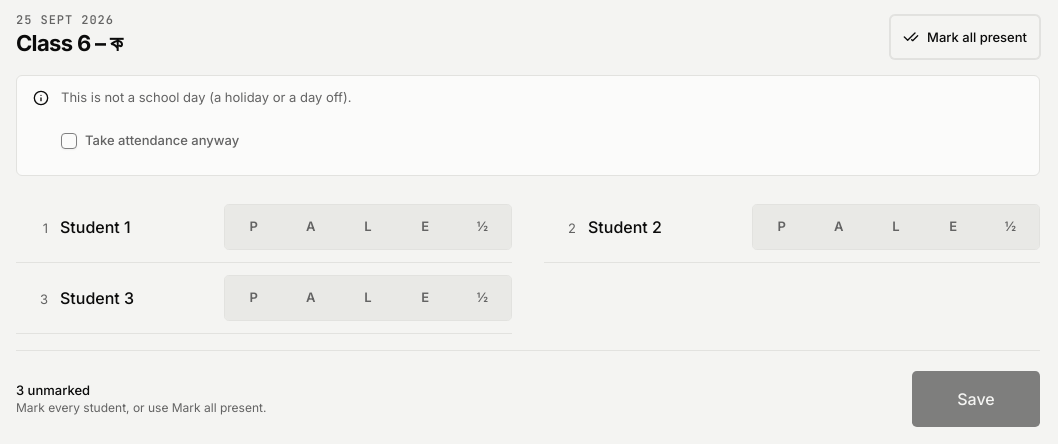
Test: RollCall › needs a confirmation on a non-school day
Click the button "Mark all present" at (965, 37), box [890,15,1040,59]
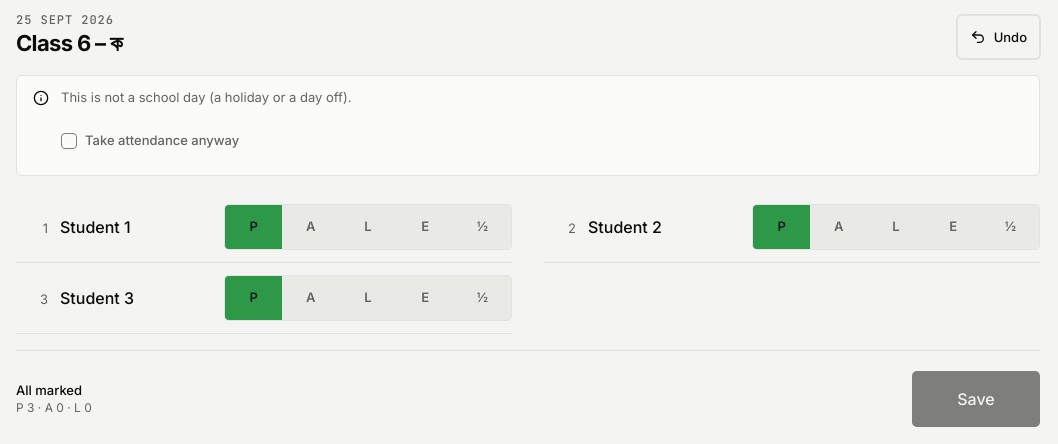
expect the button "Save" is disabled: met, box [912,370,1040,426]
Click the checkbox at (69, 140), box [61,132,77,148]
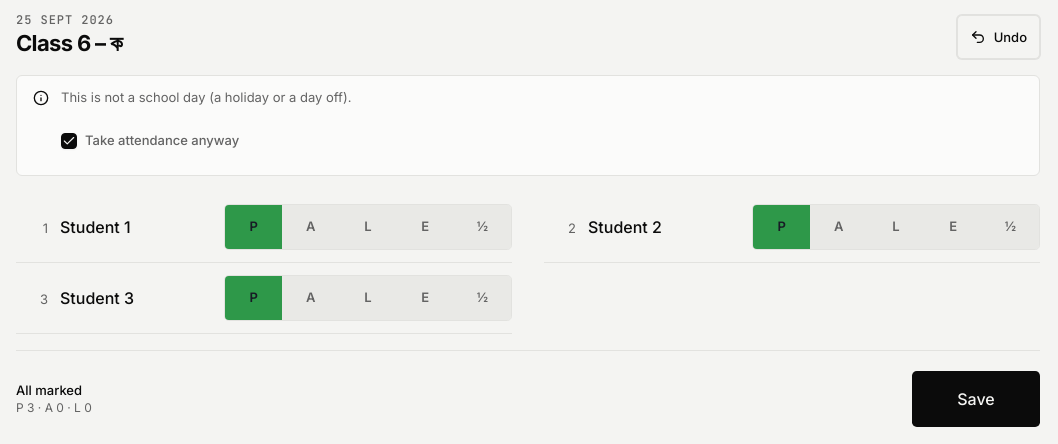
expect the button "Save" is enabled: met, box [912,370,1040,426]
